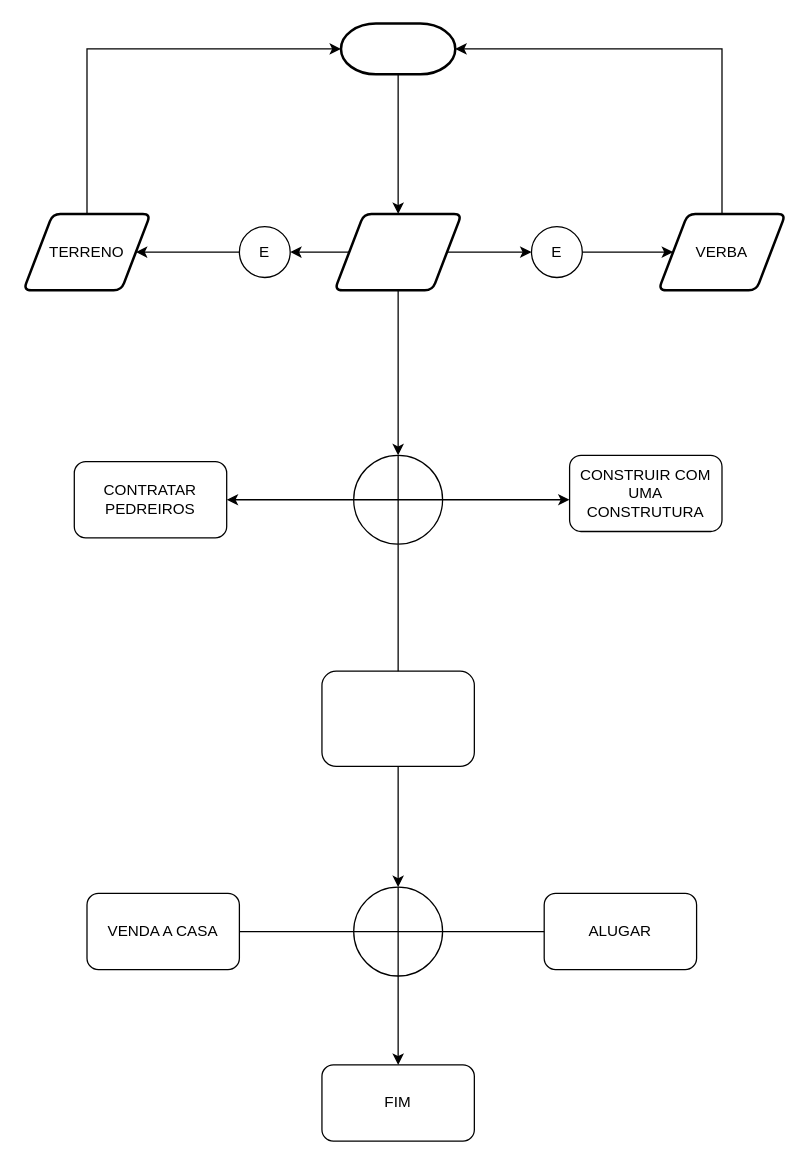
Some shapes in this 808 by 1163 pixel diagram are drawn without their labels. The shapes that lost their labels are listed below. From the top down, each one's box as (x1, y1, x2, y2) in pixels, then its label:
(339, 22, 456, 75): INICIO
(333, 212, 462, 291): APROVADA PELA PREFEITUR
(321, 670, 474, 766): CONTINUIDADE DA CONSTRUÇÃO DA CASA
